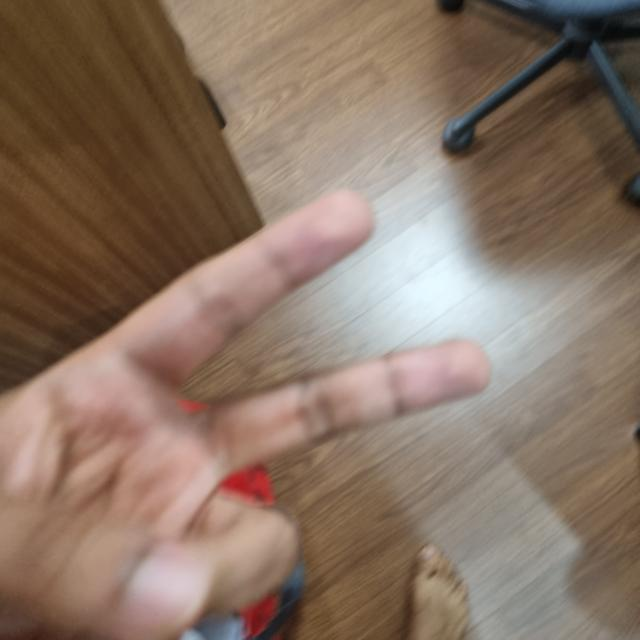Scissors: (0, 198, 482, 639)
